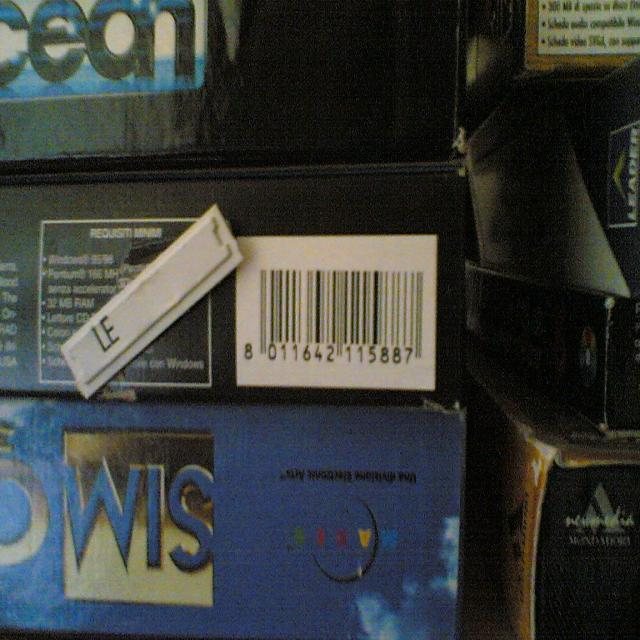barcode: (236, 235, 438, 391)
